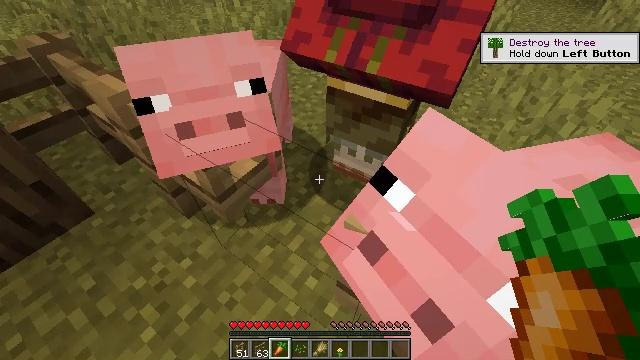pig: (318, 106, 640, 359), (120, 40, 292, 204)
